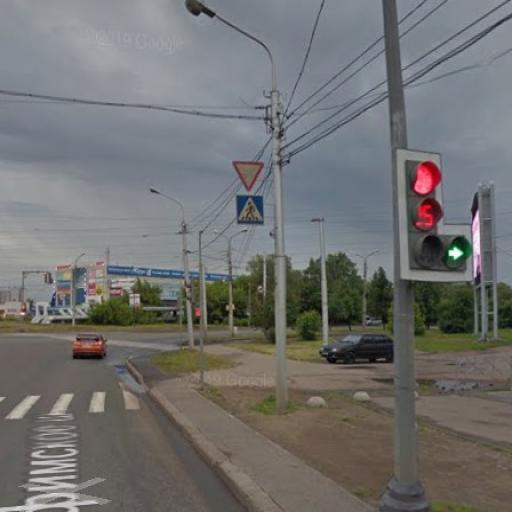traffic_sign: (234, 191, 271, 230), (233, 158, 267, 194)
